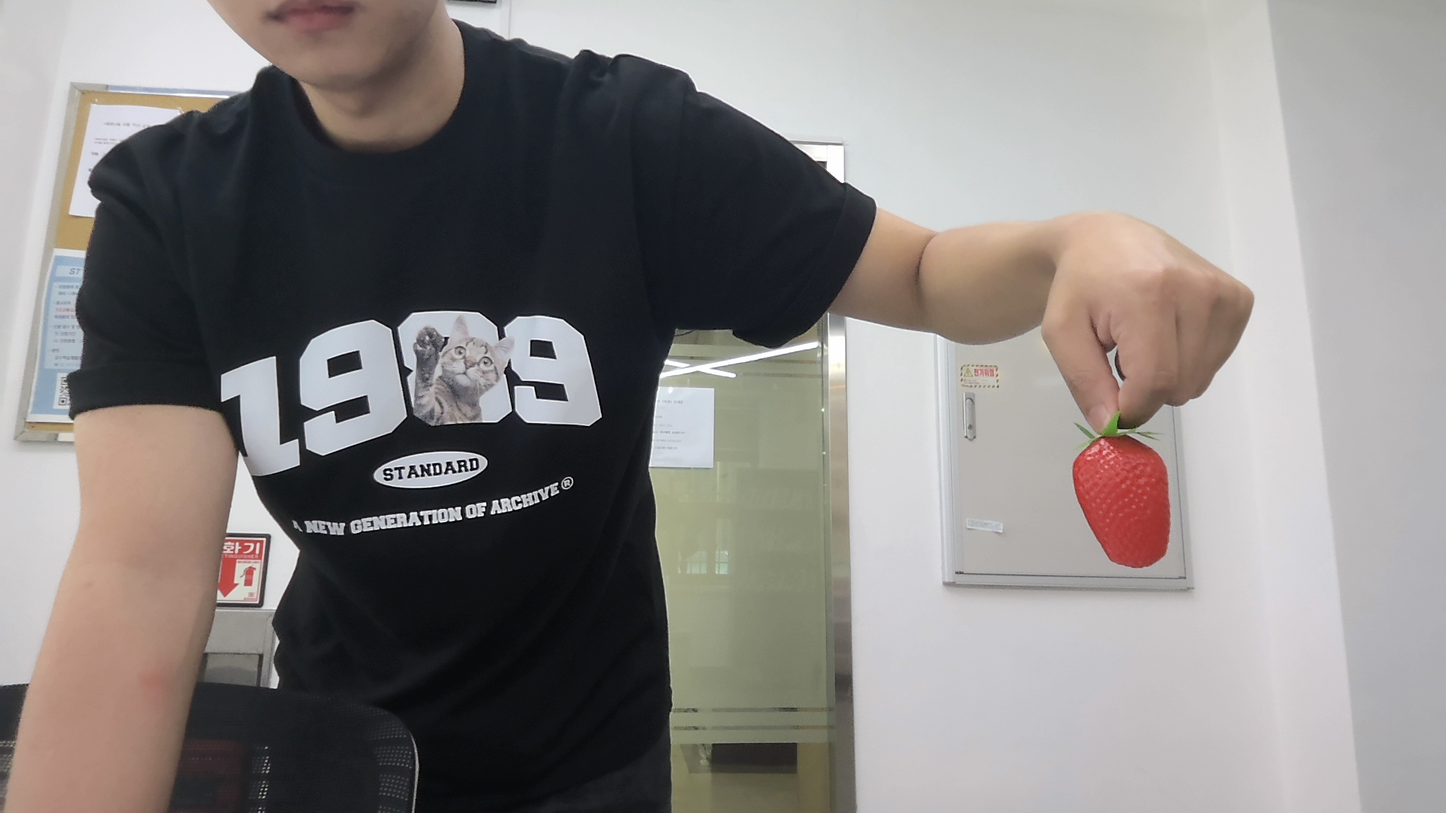strawberry: (1067, 426, 1188, 571)
